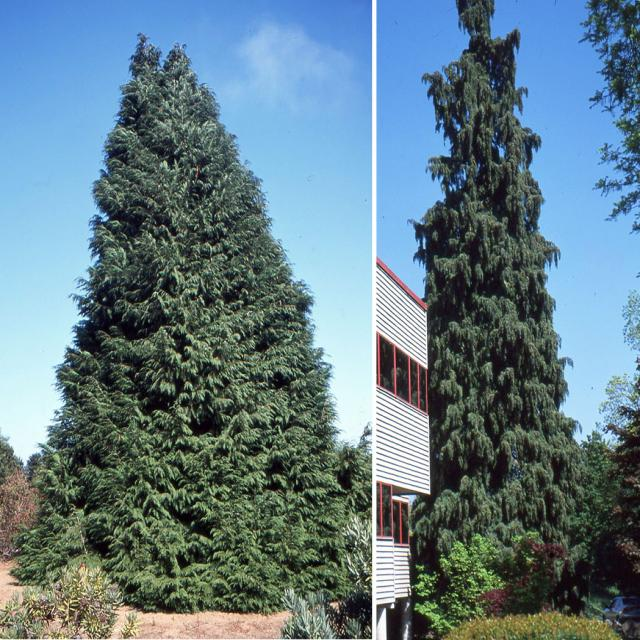Chamaecyparis lawsoniana: (12, 16, 361, 632), (398, 2, 586, 582)
